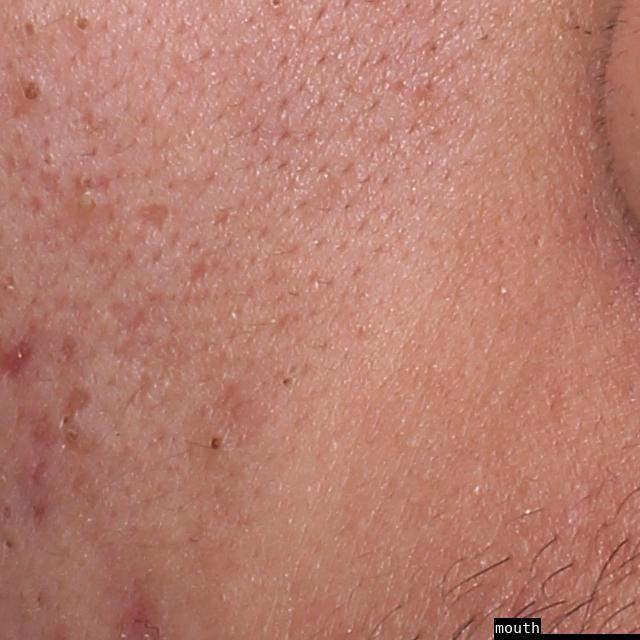atrophic_scar: (104, 291, 166, 359), (128, 198, 177, 234), (36, 165, 67, 207), (52, 331, 80, 362), (69, 386, 94, 414), (27, 461, 50, 489), (27, 505, 45, 526)
comedo: (20, 78, 45, 107), (17, 18, 40, 41), (68, 17, 93, 37), (201, 434, 227, 453), (279, 375, 298, 391), (60, 429, 81, 443), (54, 413, 73, 428), (2, 534, 14, 549)
